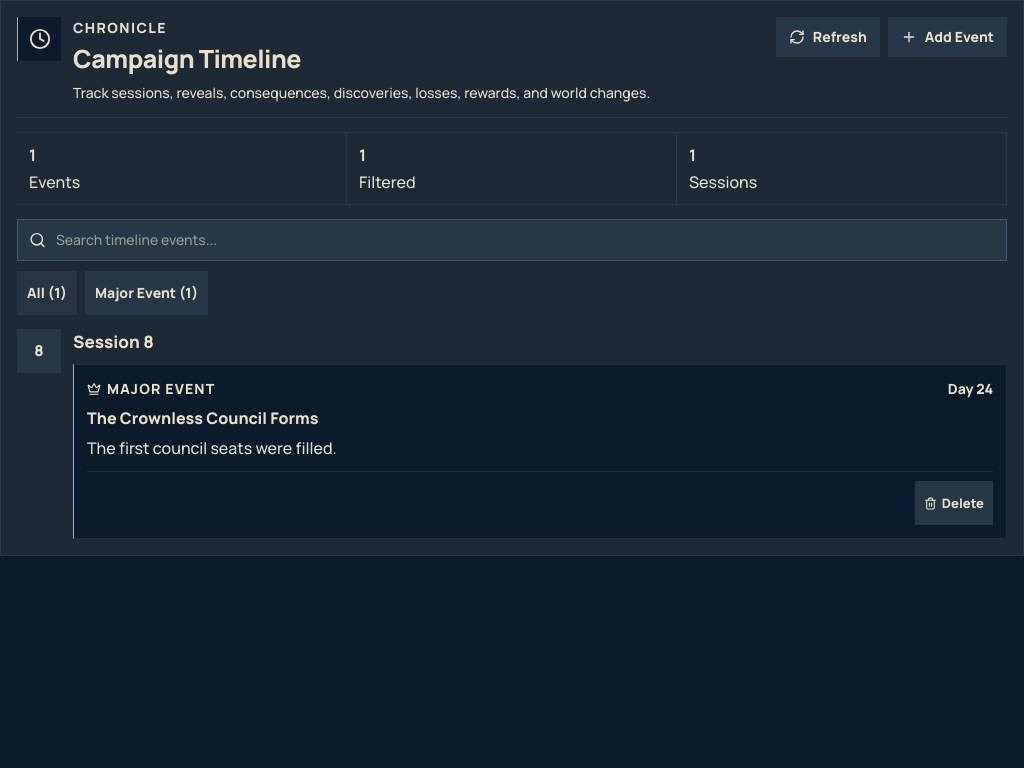
SessionTimeline reliability › preserves last-known-good events when refresh fails
This screenshot has width=1024, height=768.
Expected: the heading "The Crownless Council Forms" is shown, [87,407,318,429]
Click the button with test id "timeline-refresh-btn" at point(828, 37), box [776,17,880,57]
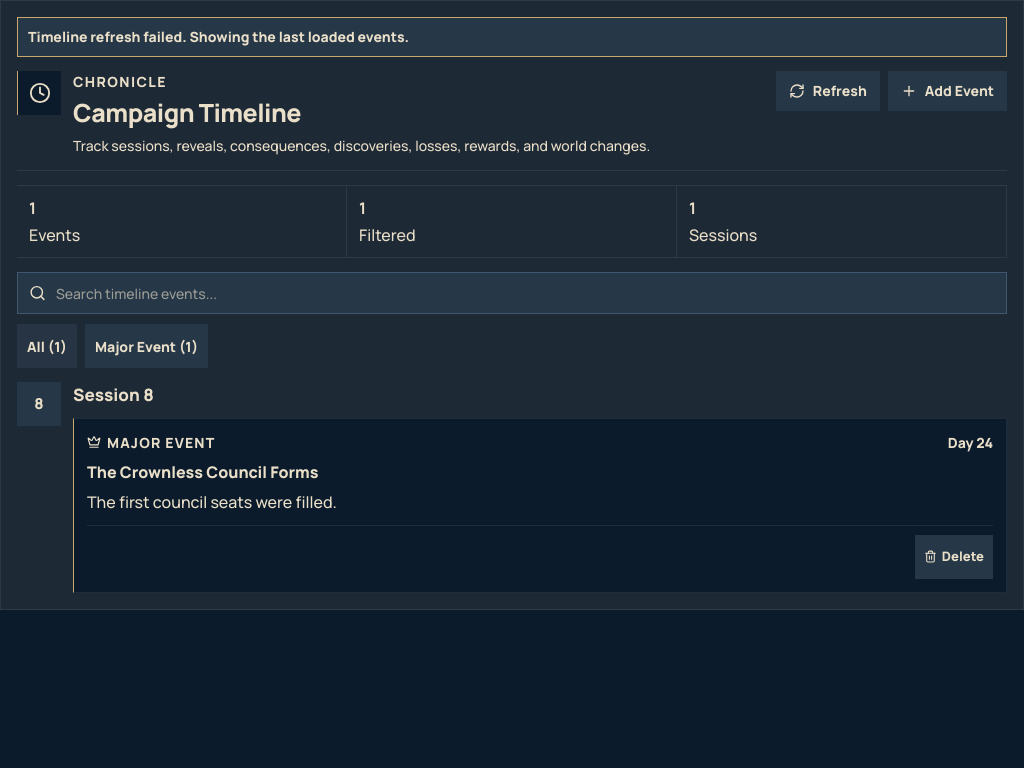
Expected: the heading "The Crownless Council Forms" is shown, [87,461,318,483]
Now the message with test id "timeline-load-warning" reads "Timeline refresh failed. Showing the last loaded events.", box [28,27,409,46]
